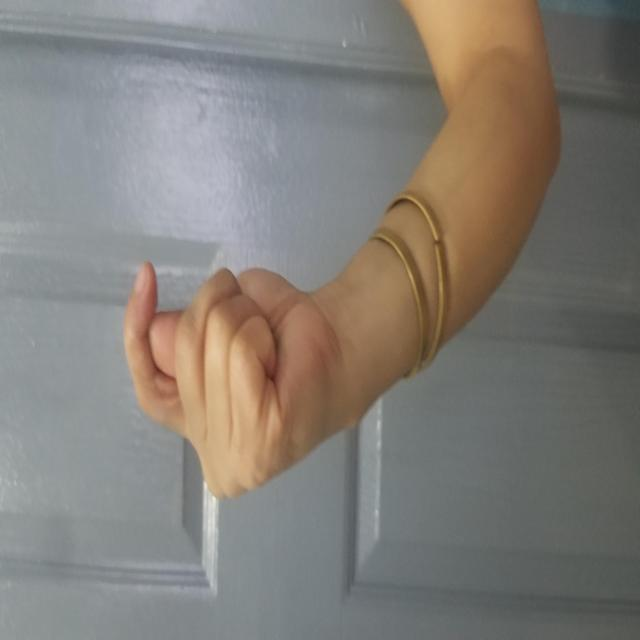T: (139, 121, 380, 353)
